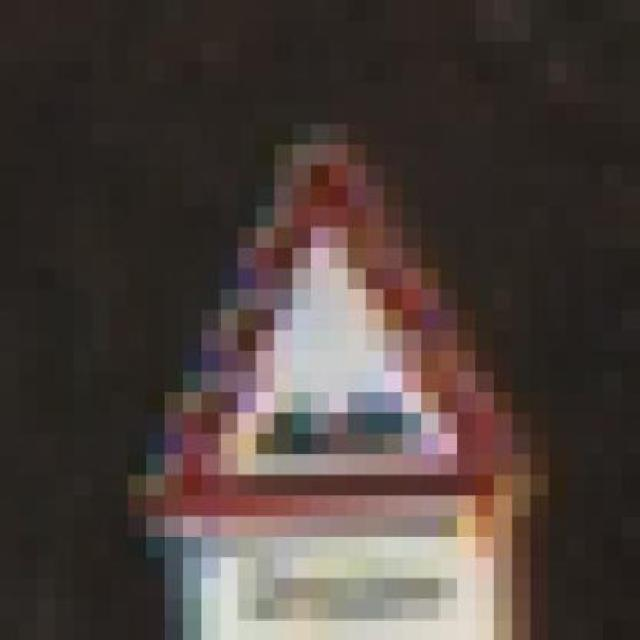Uneven Road: (128, 89, 530, 543)
